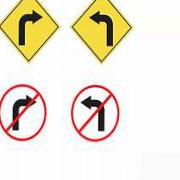left: (69, 1, 131, 64)
right: (1, 1, 61, 63)
